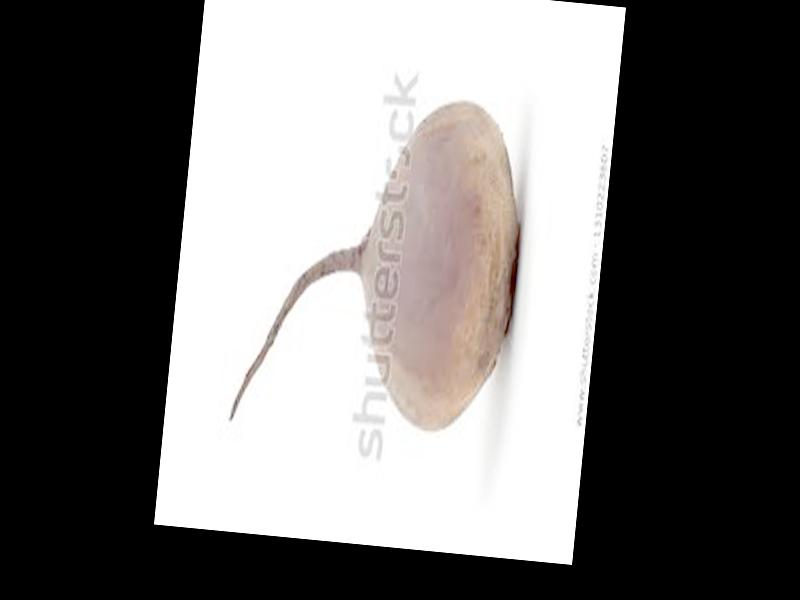Beet: (228, 77, 534, 446)
